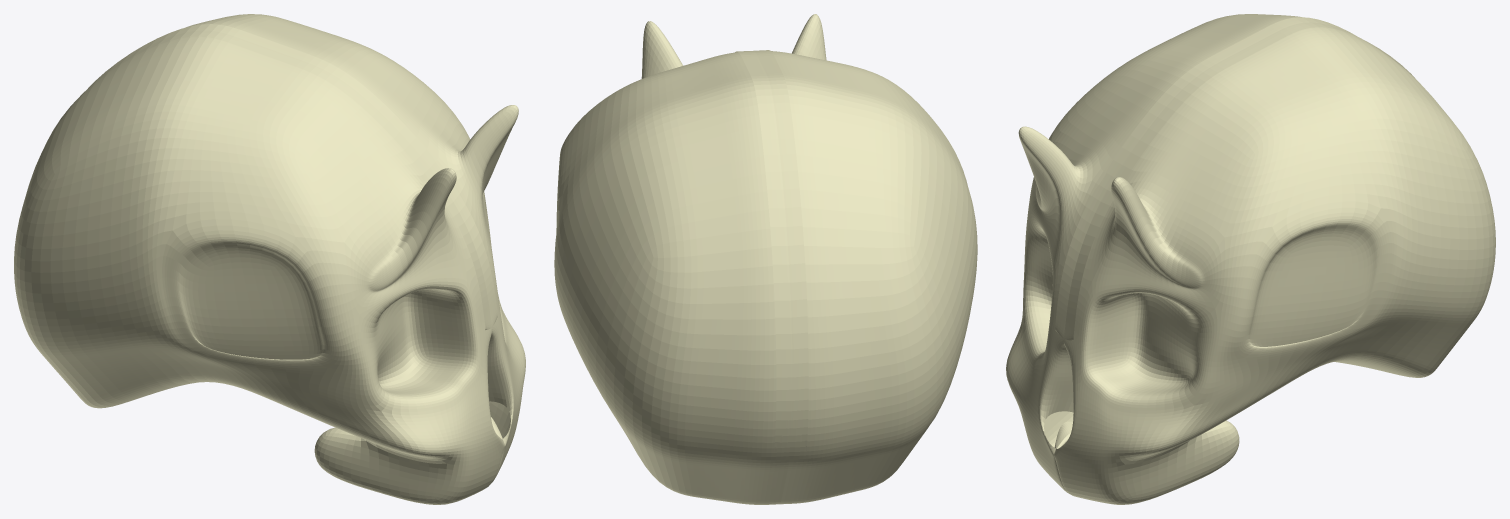
File: skull.fbx
3 renders of one model, left to right at view 1: azimuth 30°, elevation 25°; view 2: azimuth 150°, elevation 25°; view 3: azimuth 270°, elevation 25°, orthographic. The views are drawn at different scales.
Visible parts, largest first — view 1: Cube; view 2: Cube; view 3: Cube.
Part boxes in pixels (x1,y1,x2,y2): Cube: (14,14,525,504); Cube: (554,14,977,504); Cube: (1006,14,1495,504).
Bounding box in the file's own units: 157 × 150 × 166.
